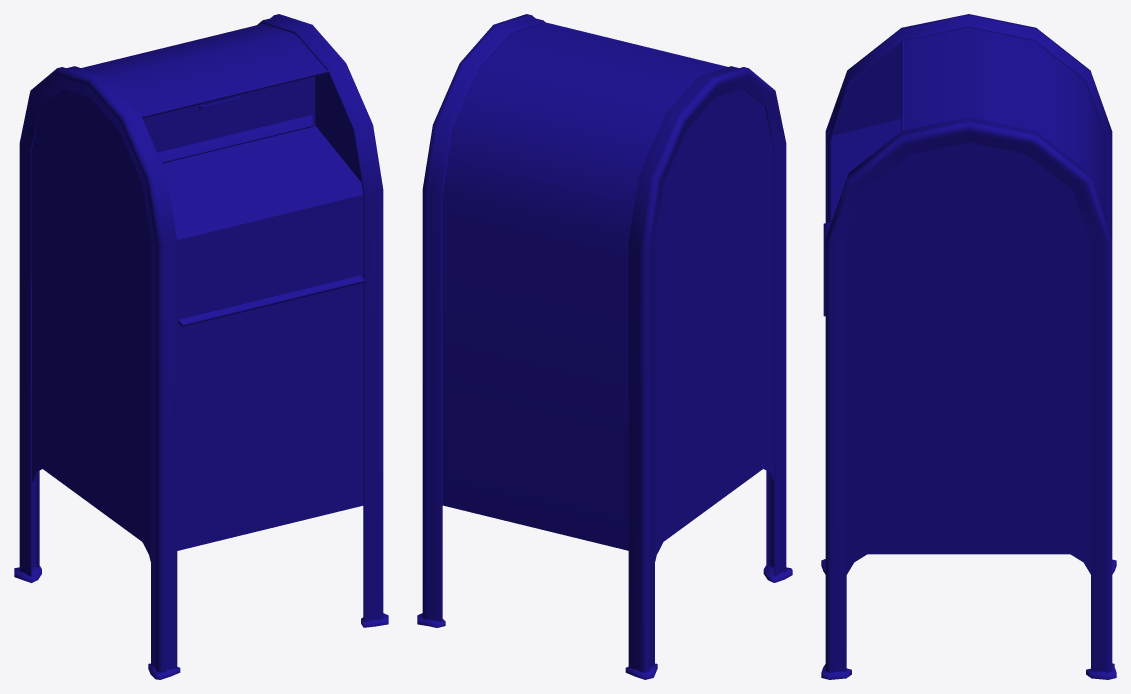
Rendered from MailBox.fbx.
The picture shows the model from 3 angles, left to right: view 1: azimuth 30°, elevation 25°; view 2: azimuth 150°, elevation 25°; view 3: azimuth 270°, elevation 25°; orthographic projection.
Parts seen in each view (by area): view 1: Mailbox; view 2: Mailbox; view 3: Mailbox.
Boxes of the visible parts, x1,y1,x2,y2 form: Mailbox: (14, 14, 388, 679); Mailbox: (417, 14, 792, 679); Mailbox: (821, 14, 1116, 679).
Size of the model in its own units: 53.78 by 119 by 57.59.
